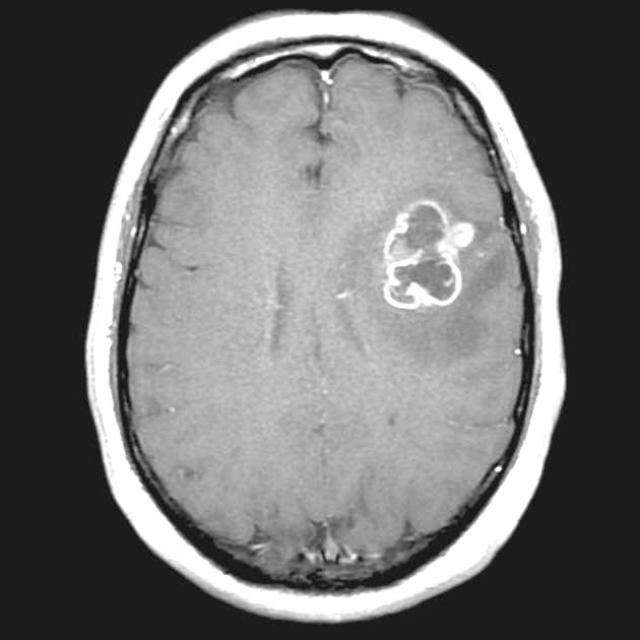brain tumor: (383, 200, 472, 308)
